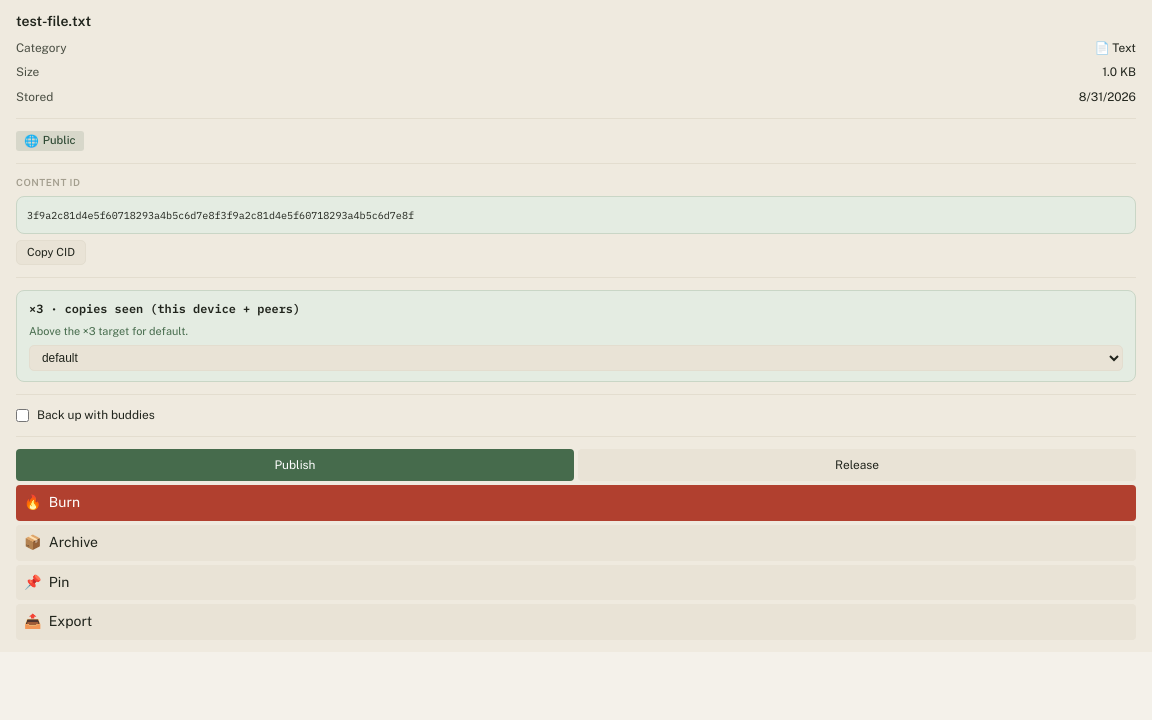
Scenario: FileDetailPanel › renders the ineligible rejection inline and reverts the checkbox
Click the checkbox with test id "backup-checkbox" at x=22, y=416, box [16,409,29,422]
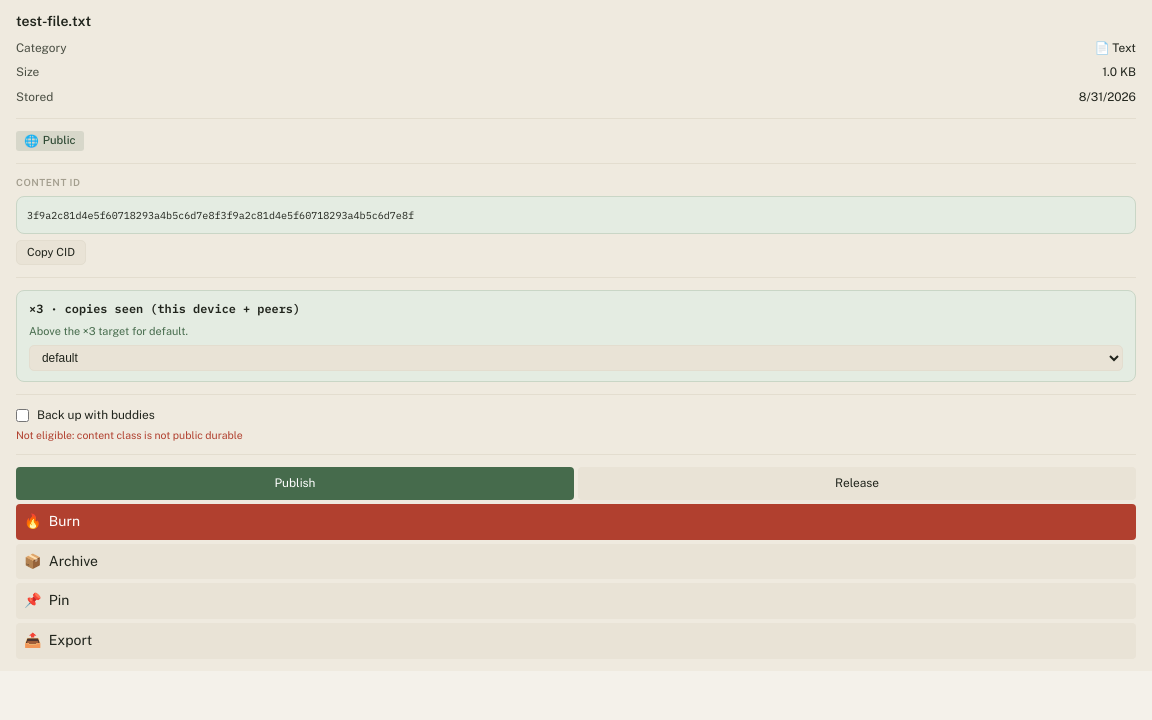
expect the message reads "Not eligible: content class is not public durable": met, box [16,429,243,441]
